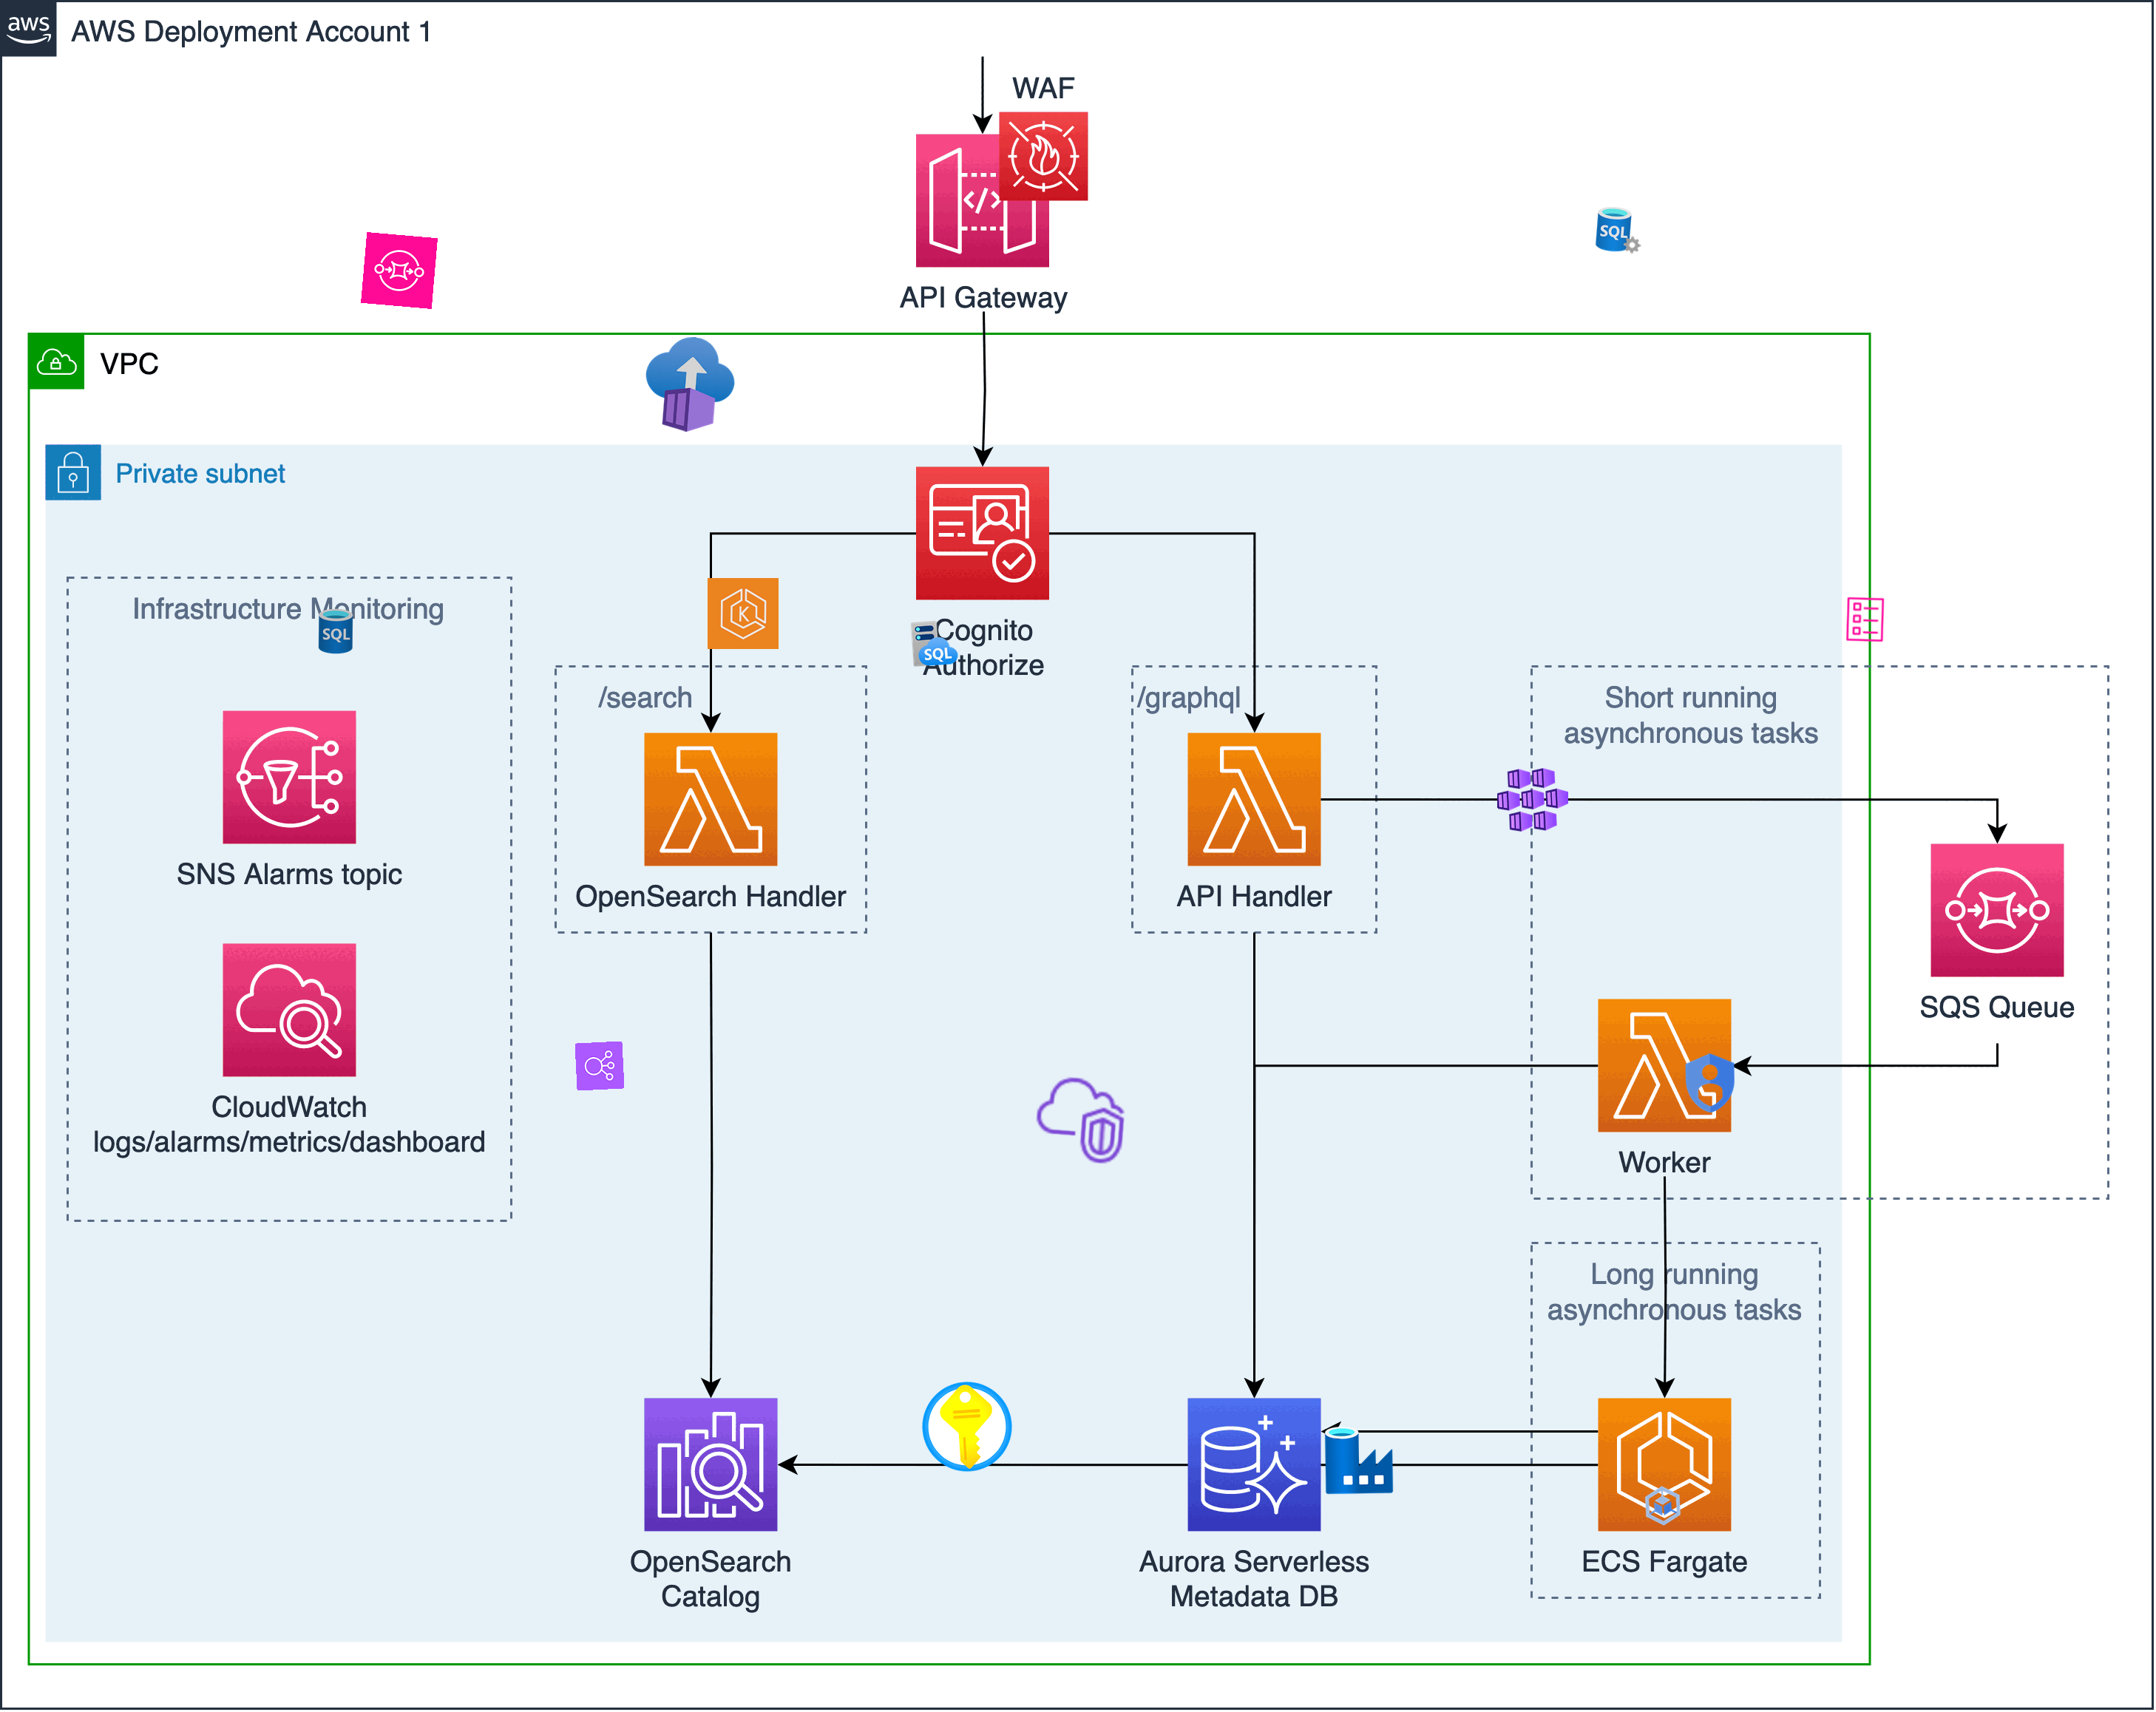aws_amazon_elastic_kubernetes_service: (707, 577, 779, 651)
aws_amazon_simple_queue_service: (360, 233, 438, 310)
aws_cloudformation_template: (1841, 595, 1888, 644)
aws_elastic_load_balancing: (574, 1040, 625, 1091)
aws_vpc_virtual_private_cloud_vpc: (1029, 1068, 1130, 1172)
azure_container_instances: (639, 334, 740, 435)
azure_data_factories: (1323, 1423, 1395, 1497)
azure_key_vaults: (917, 1376, 1017, 1478)
azure_kubernetes_services: (1495, 761, 1570, 838)
azure_sql_database: (312, 607, 360, 656)
azure_sql_managed_instance: (908, 617, 961, 670)
azure_sql_server: (1592, 205, 1645, 255)
gcp_google_kubernetes_engine: (1638, 1481, 1689, 1530)
gcp_identity_and_access_management: (1675, 1047, 1746, 1119)
